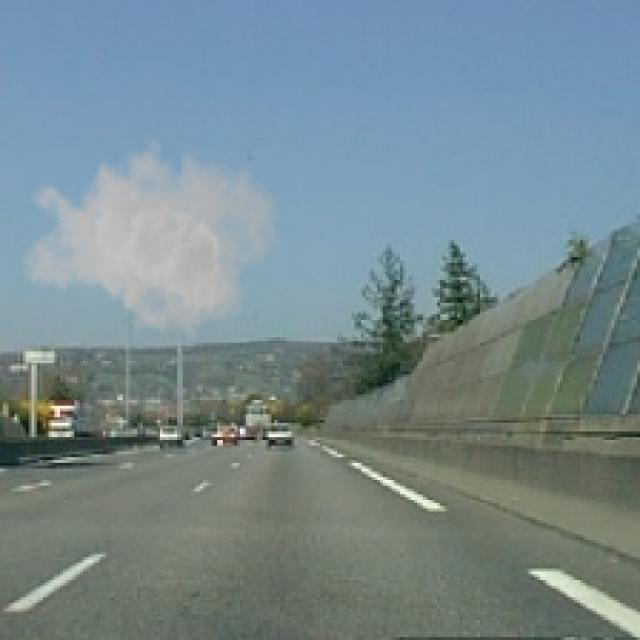Smoke: (20, 126, 280, 340)
